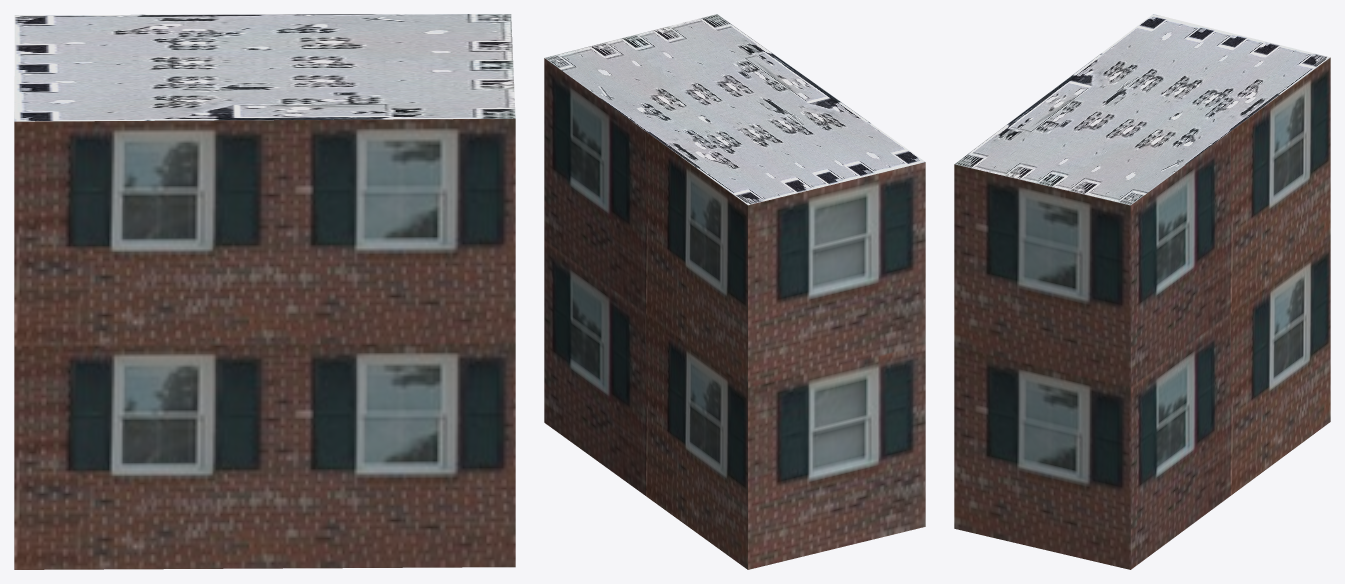
The model's file is ResTex__516.fbx.
The picture shows the model from 3 angles, left to right: view 1: azimuth 30°, elevation 25°; view 2: azimuth 150°, elevation 25°; view 3: azimuth 270°, elevation 25°; orthographic projection. The views are drawn at different scales.
Visible parts, largest first — view 1: CityEngineMaterial_14_m, CityEngineMaterial_8_m; view 2: CityEngineMaterial_14_m, CityEngineMaterial_8_m; view 3: CityEngineMaterial_14_m, CityEngineMaterial_8_m.
Boxes of the visible parts, x1,y1,x2,y2 form: CityEngineMaterial_14_m: (14, 118, 515, 569); CityEngineMaterial_8_m: (14, 14, 515, 121); CityEngineMaterial_14_m: (544, 58, 925, 569); CityEngineMaterial_8_m: (545, 14, 924, 205); CityEngineMaterial_14_m: (954, 57, 1330, 569); CityEngineMaterial_8_m: (954, 14, 1330, 205).
Size of the model in its own units: 6.76 by 6 by 5.62.
Materials: 2 (2 with a texture image).
